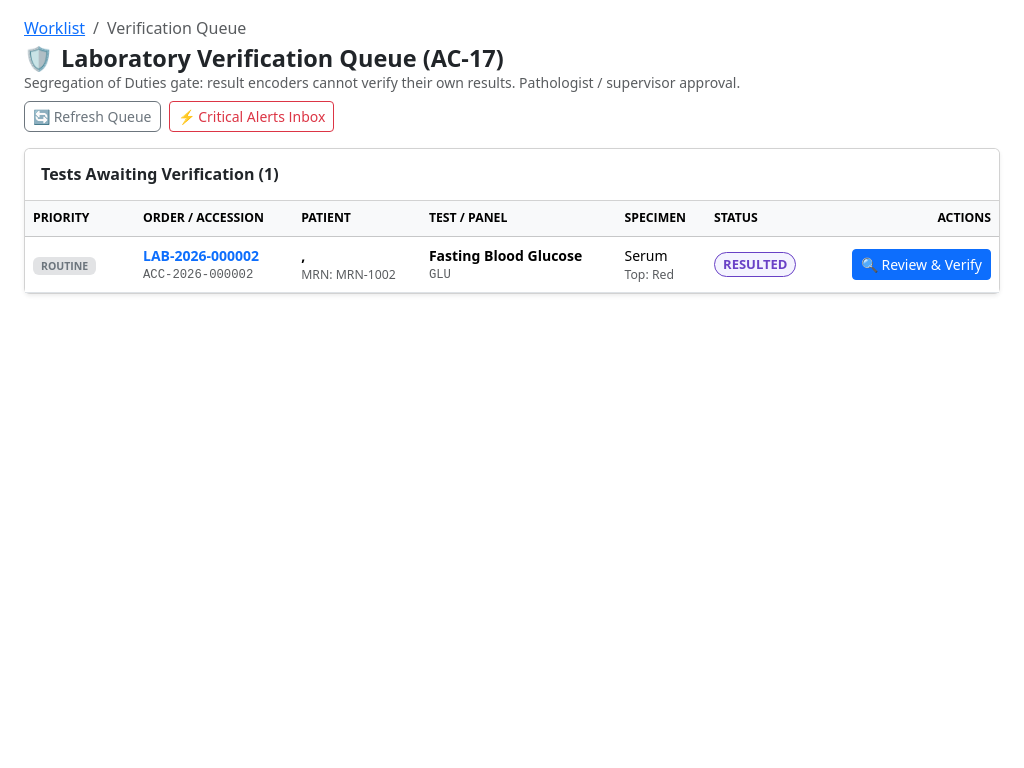
Test: Laboratory Frontend Suite (Phase 6, todo.md §6) › VerificationQueuePage (AC-17 Segregation of Duties) › enforces SoD: blocks verification and shows warning when current user is the encoder
Click the button "🔍 Review & Verify" at (921, 264), box 852,249 -> 991,280
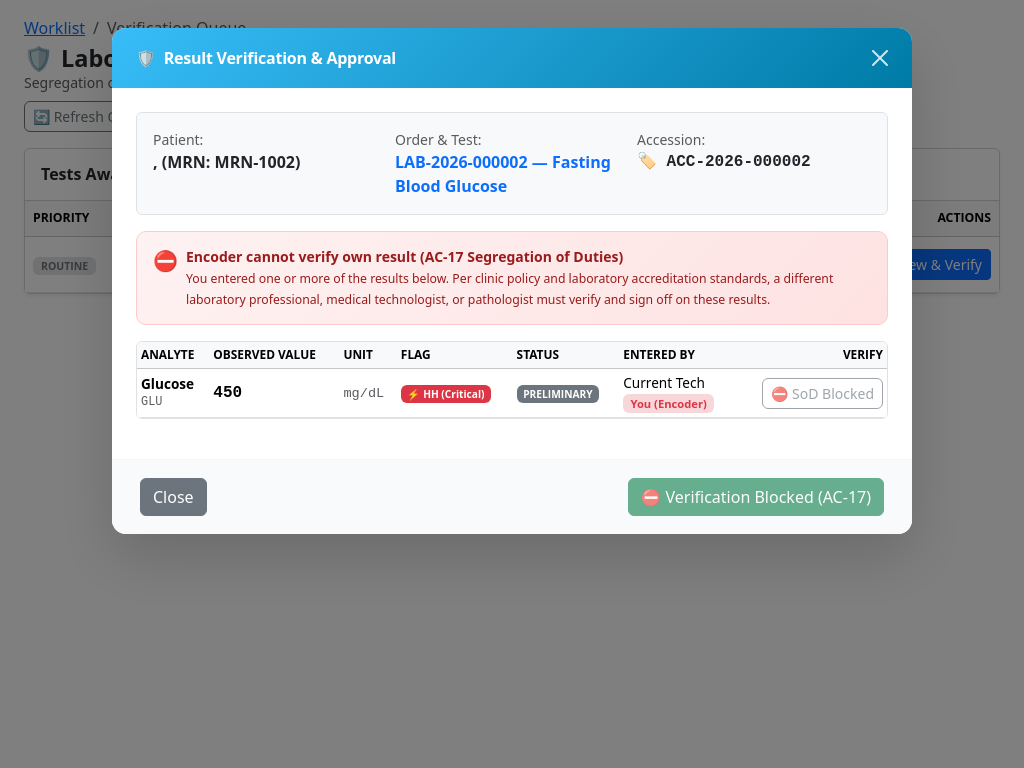
Result: the text "🛡️ Result Verification & Approval" is shown at 136,46 -> 396,70
Result: the text "Encoder cannot verify own result (AC-17 Segregation of Duties)" is shown at 186,247 -> 623,266
Result: the button "⛔ Verification Blocked (AC-17)" is disabled at 628,478 -> 884,516
